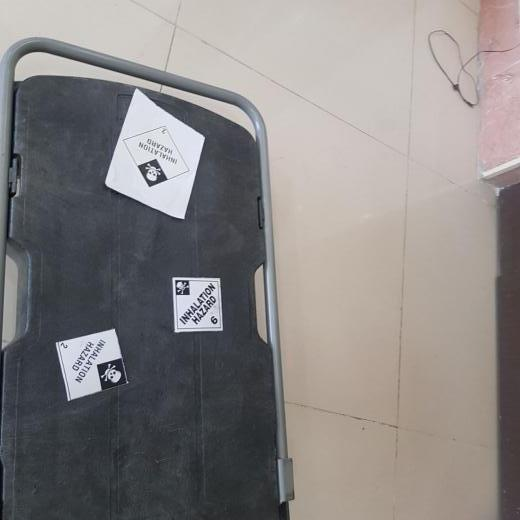poison: (58, 328, 129, 399), (127, 127, 188, 188), (175, 278, 225, 328)
